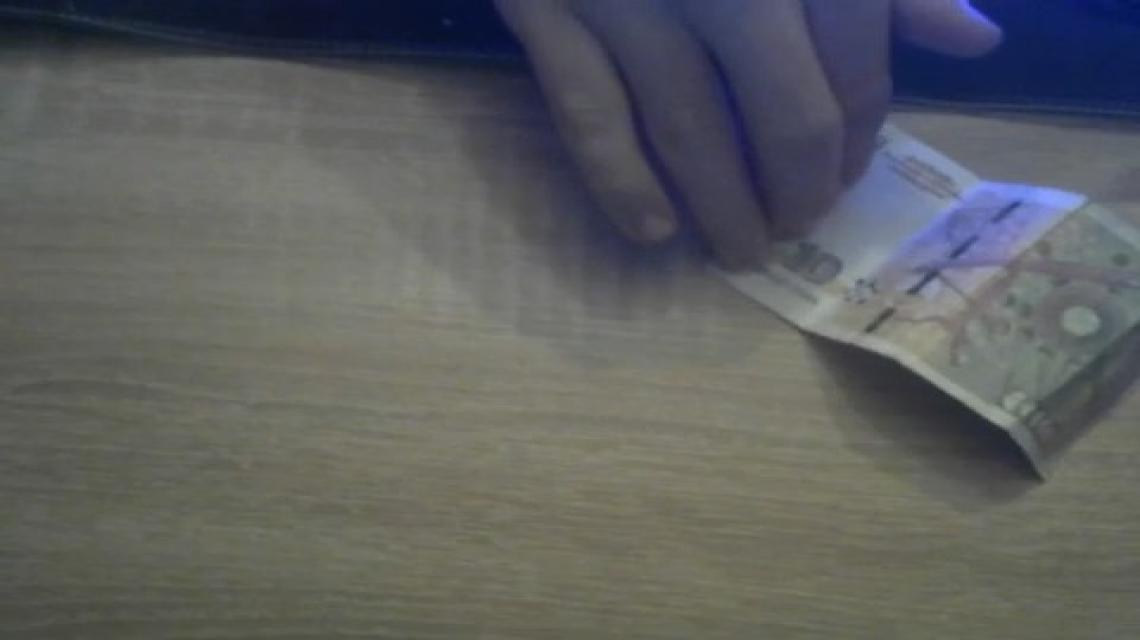10leva: (717, 130, 1140, 476)
